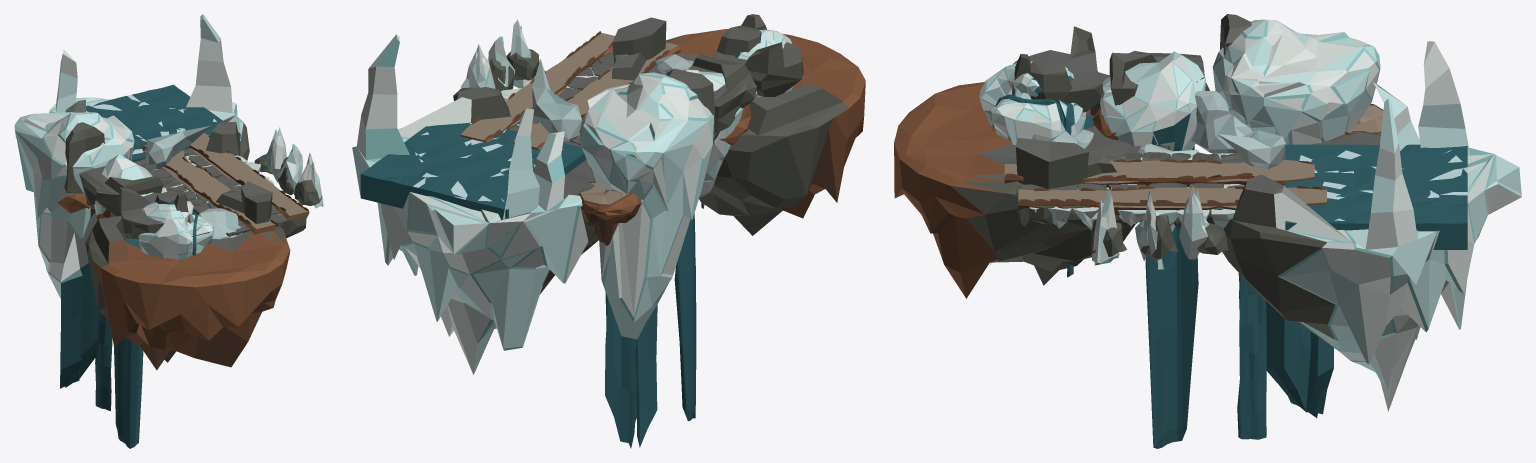
File: PullHielo01.fbx
3 views of the same model, side by side, from view 1: azimuth 30°, elevation 25°; view 2: azimuth 150°, elevation 25°; view 3: azimuth 270°, elevation 25° (orthographic). The views are drawn at different scales.
Parts seen in each view (by area): view 1: Transicion01, IslaFlotanteHielo03, Transicion02, Cubo.016_Cubo.017, AguaSuelo01, IslaFlotanteHielo01, Cubo.016_Cubo.018, EscenarioTierra02, EscenarioTieera01, Cubo.018, Nube03, IslaFlotanteHielo02 (+7 smaller); view 2: Transicion02, IslaFlotanteHielo03, Transicion01, AguaSuelo01, Cubo.016_Cubo.017, Cubo.018, EscenarioTierra02, TierraFlotante03, Nube03, EscenarioTieera01, IslaFlotanteHielo02, Cubo.016_Cubo.018 (+5 smaller); view 3: Transicion02, Transicion01, IslaFlotanteHielo03, AguaSuelo01, Cubo.016_Cubo.017, IslaFlotanteHielo02, IslaFlotanteHielo01, Cubo.016_Cubo.018, EscenarioTieera01, EscenarioTierra02, Cubo.018, Nube02 (+8 smaller).
Part boxes in pixels (left/top/right/bottom): Transicion01: left=85, top=181, right=290, bottom=370; IslaFlotanteHielo03: left=14, top=112, right=134, bottom=388; Transicion02: left=49, top=14, right=249, bottom=160; Cubo.016_Cubo.017: left=79, top=166, right=163, bottom=448; AguaSuelo01: left=86, top=84, right=240, bottom=162; IslaFlotanteHielo01: left=138, top=201, right=213, bottom=259; Cubo.016_Cubo.018: left=64, top=122, right=112, bottom=410; EscenarioTierra02: left=189, top=133, right=309, bottom=219; EscenarioTieera01: left=141, top=145, right=275, bottom=234; Cubo.018: left=119, top=187, right=190, bottom=238; Nube03: left=145, top=125, right=211, bottom=169; IslaFlotanteHielo02: left=94, top=154, right=163, bottom=215; Transicion02: left=352, top=34, right=598, bottom=374; IslaFlotanteHielo03: left=579, top=72, right=713, bottom=448; Transicion01: left=612, top=17, right=865, bottom=235; AguaSuelo01: left=360, top=122, right=586, bottom=233; Cubo.016_Cubo.017: left=674, top=54, right=756, bottom=421; Cubo.018: left=713, top=14, right=803, bottom=96; EscenarioTierra02: left=460, top=31, right=614, bottom=142; TierraFlotante03: left=578, top=181, right=641, bottom=245; Nube03: left=532, top=59, right=582, bottom=141; EscenarioTieera01: left=513, top=42, right=680, bottom=149; IslaFlotanteHielo02: left=683, top=69, right=743, bottom=197; Cubo.016_Cubo.018: left=666, top=68, right=715, bottom=144; Transicion02: left=1222, top=41, right=1521, bottom=411; Transicion01: left=894, top=72, right=1170, bottom=298; IslaFlotanteHielo03: left=1212, top=19, right=1380, bottom=417; AguaSuelo01: left=1285, top=144, right=1467, bottom=249; Cubo.016_Cubo.017: left=1109, top=51, right=1209, bottom=448; IslaFlotanteHielo02: left=1100, top=51, right=1205, bottom=269; IslaFlotanteHielo01: left=979, top=61, right=1086, bottom=277; Cubo.016_Cubo.018: left=1220, top=14, right=1266, bottom=439; EscenarioTieera01: left=1004, top=159, right=1314, bottom=187; EscenarioTierra02: left=1018, top=185, right=1326, bottom=216; Cubo.018: left=1012, top=26, right=1102, bottom=112; Nube02: left=1191, top=91, right=1254, bottom=153.
Size of the model in its own units: 1307 by 1557 by 1946.
